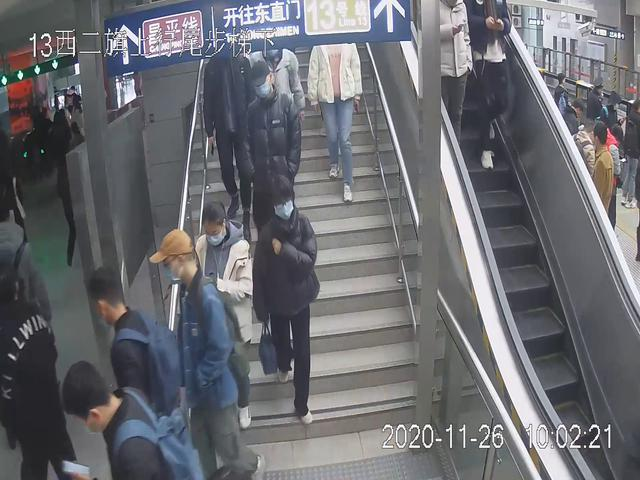person: (148, 227, 263, 480), (83, 263, 186, 464), (253, 174, 321, 425), (188, 197, 256, 435), (236, 58, 305, 266), (196, 35, 256, 246), (301, 29, 363, 209), (464, 1, 512, 174), (427, 1, 474, 171)
